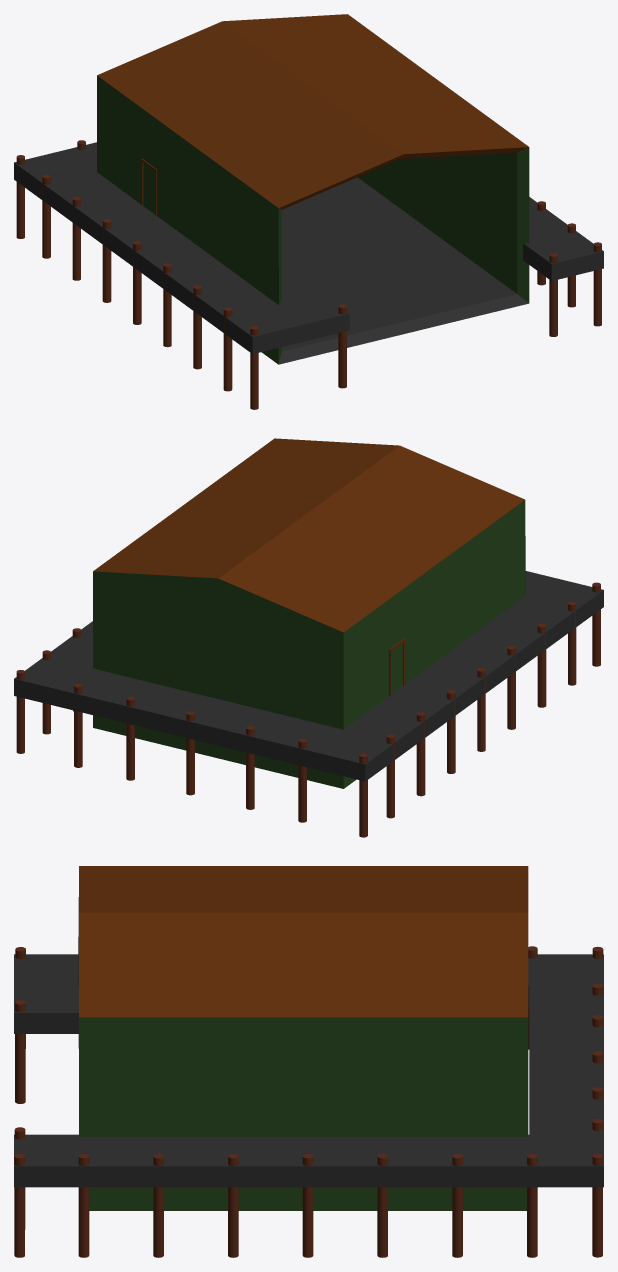
The model's file is HangarBoat.fbx.
The picture shows the model from 3 angles, top to bottom: view 1: azimuth 30°, elevation 25°; view 2: azimuth 150°, elevation 25°; view 3: azimuth 270°, elevation 25°; orthographic projection. The views are drawn at different scales.
Parts seen in each view (by area): view 1: Cube.001; view 2: Cube.001; view 3: Cube.001.
Part boxes in pixels (x1,y1,x2,y2): Cube.001: (14, 14, 603, 409); Cube.001: (14, 438, 603, 837); Cube.001: (14, 866, 603, 1257).
Bounding box in the file's own units: 470 × 248 × 553.
